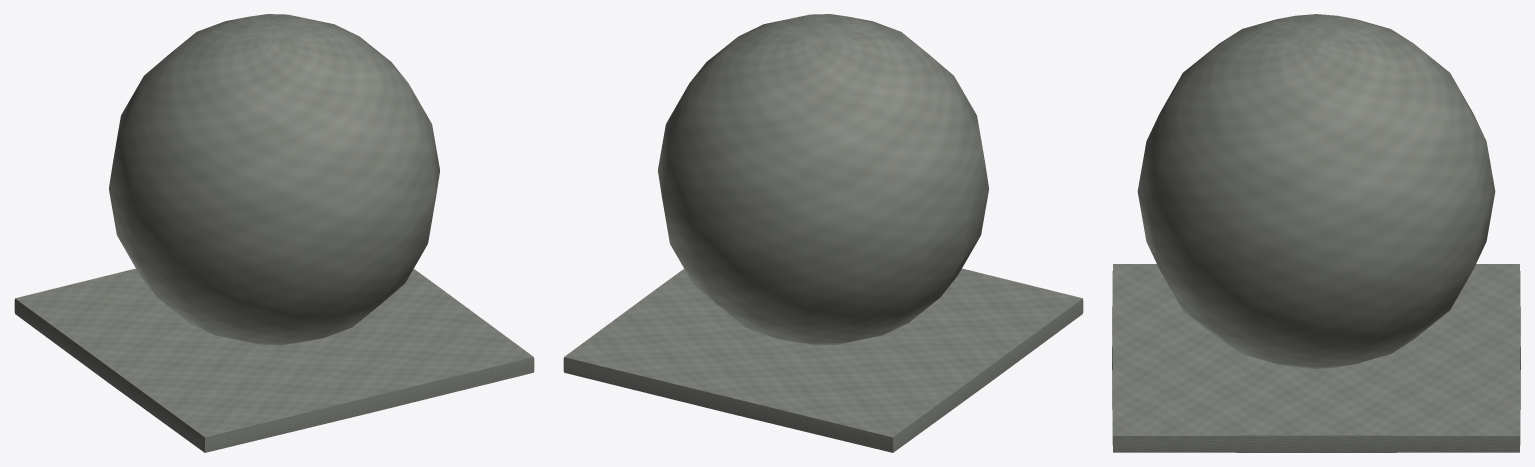
3 views of the same model, side by side, from view 1: azimuth 30°, elevation 25°; view 2: azimuth 150°, elevation 25°; view 3: azimuth 270°, elevation 25° (orthographic). The views are drawn at different scales.
Parts seen in each view (by area): view 1: surface.0, surface.1; view 2: surface.0, surface.1; view 3: surface.0, surface.1.
Boxes of the visible parts, x1,y1,x2,y2 form: surface.0: (109,14,439,345); surface.1: (14,268,534,452); surface.0: (658,14,988,345); surface.1: (563,268,1083,452); surface.0: (1137,14,1495,368); surface.1: (1112,264,1520,452).
Size of the model in its own units: 0.8 by 0.73 by 0.8.
Materials: 1 (1 with a texture image).
